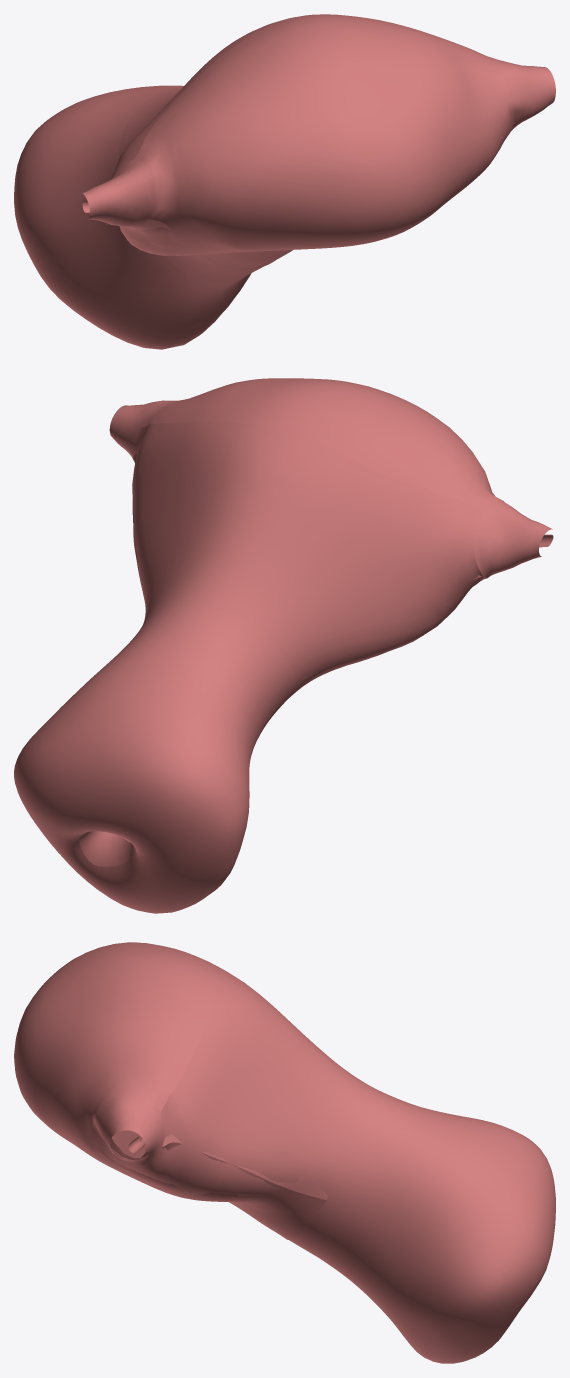
Rendered from VH_F_Uterus.glb.
The picture shows the model from 3 angles, top to bottom: view 1: azimuth 30°, elevation 25°; view 2: azimuth 150°, elevation 25°; view 3: azimuth 270°, elevation 25°; orthographic projection. The views are drawn at different scales.
Parts seen in each view (by area): view 1: VH_F_fundus_of_uterus, VH_F_cervix, VH_F_cornua, VH_F_posterior_wall_of_uterus, VH_F_lower_uterine_segment, VH_F_body_of_uterus; view 2: VH_F_body_of_uterus, VH_F_cervix, VH_F_fundus_of_uterus, VH_F_lower_uterine_segment, VH_F_cornua, VH_F_external_cervical_os; view 3: VH_F_cervix, VH_F_body_of_uterus, VH_F_fundus_of_uterus, VH_F_lower_uterine_segment, VH_F_posterior_wall_of_uterus, VH_F_cornua, VH_F_anterior_wall_of_uterus.
Part boxes in pixels (x1=…): VH_F_fundus_of_uterus: x1=132, y1=14, x2=516, y2=248; VH_F_cervix: x1=14, y1=85, x2=251, y2=349; VH_F_cornua: x1=82, y1=58, x2=555, y2=227; VH_F_posterior_wall_of_uterus: x1=140, y1=147, x2=500, y2=269; VH_F_lower_uterine_segment: x1=119, y1=87, x2=262, y2=285; VH_F_body_of_uterus: x1=114, y1=18, x2=511, y2=268; VH_F_body_of_uterus: x1=132, y1=421, x2=486, y2=694; VH_F_cervix: x1=14, y1=642, x2=261, y2=913; VH_F_fundus_of_uterus: x1=142, y1=378, x2=495, y2=513; VH_F_lower_uterine_segment: x1=124, y1=600, x2=296, y2=737; VH_F_cornua: x1=109, y1=400, x2=552, y2=578; VH_F_external_cervical_os: x1=79, y1=831, x2=136, y2=866; VH_F_cervix: x1=332, y1=1106, x2=555, y2=1363; VH_F_body_of_uterus: x1=112, y1=962, x2=366, y2=1213; VH_F_fundus_of_uterus: x1=14, y1=942, x2=217, y2=1163; VH_F_lower_uterine_segment: x1=289, y1=1083, x2=419, y2=1266; VH_F_posterior_wall_of_uterus: x1=40, y1=1119, x2=326, y2=1239; VH_F_cornua: x1=95, y1=942, x2=164, y2=1164; VH_F_anterior_wall_of_uterus: x1=162, y1=1134, x2=328, y2=1199.
Bounding box in the file's own units: 0.0525 × 0.047 × 0.0587.
